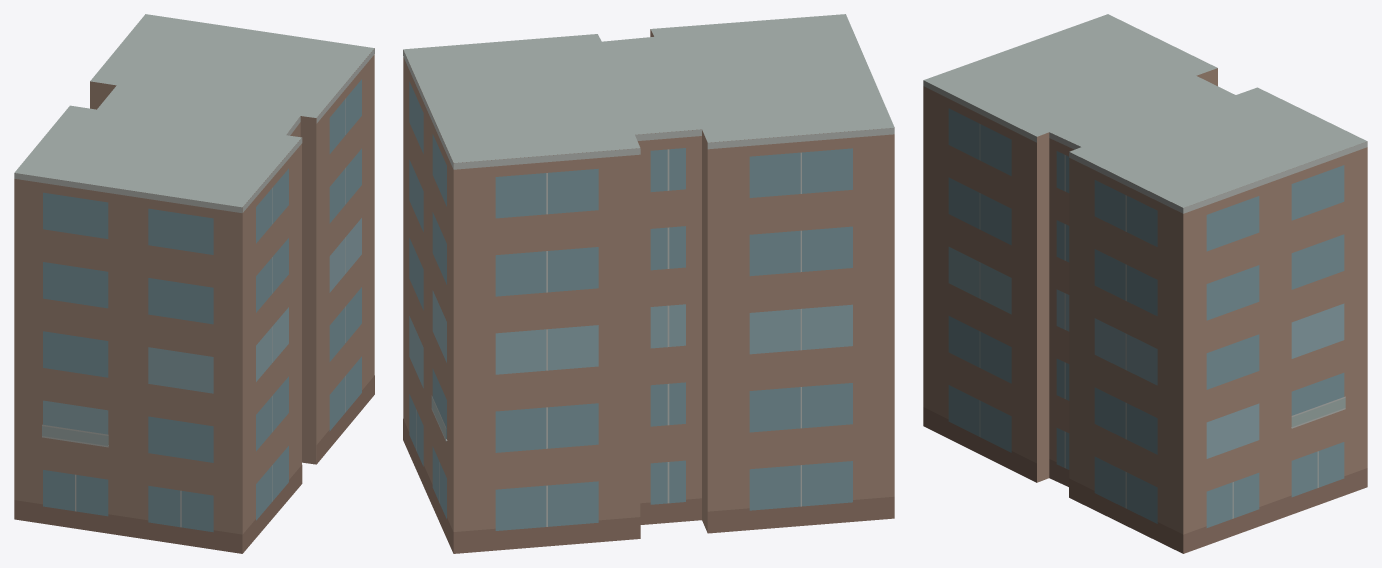
Rendered from survey-upis-32824523.glb.
3 renders of one model, left to right at view 1: azimuth 30°, elevation 25°; view 2: azimuth 150°, elevation 25°; view 3: azimuth 270°, elevation 25°, orthographic. The views are drawn at different scales.
Visible parts, largest first — view 1: survey-upis-32824523.tmp; view 2: survey-upis-32824523.tmp; view 3: survey-upis-32824523.tmp.
Part boxes in pixels (x1=…): survey-upis-32824523.tmp: x1=14, y1=14, x2=374, y2=553; survey-upis-32824523.tmp: x1=403, y1=14, x2=894, y2=553; survey-upis-32824523.tmp: x1=923, y1=14, x2=1367, y2=553.
Size of the model in its own units: 17.33 by 14.4 by 16.76.
